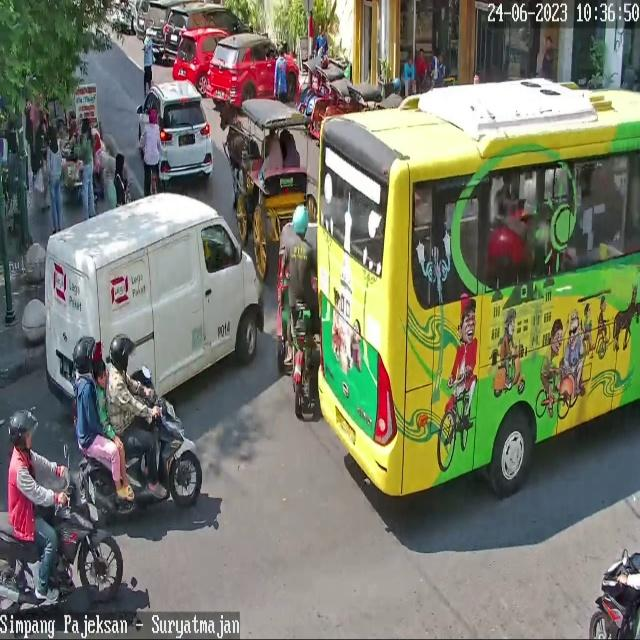bus: (0, 468, 124, 628), (83, 390, 202, 520), (591, 551, 640, 640)
car: (316, 77, 640, 498)
motorcycle: (46, 193, 264, 407), (138, 81, 212, 180), (207, 33, 299, 108), (163, 3, 257, 63), (171, 28, 231, 89), (144, 0, 170, 52)
